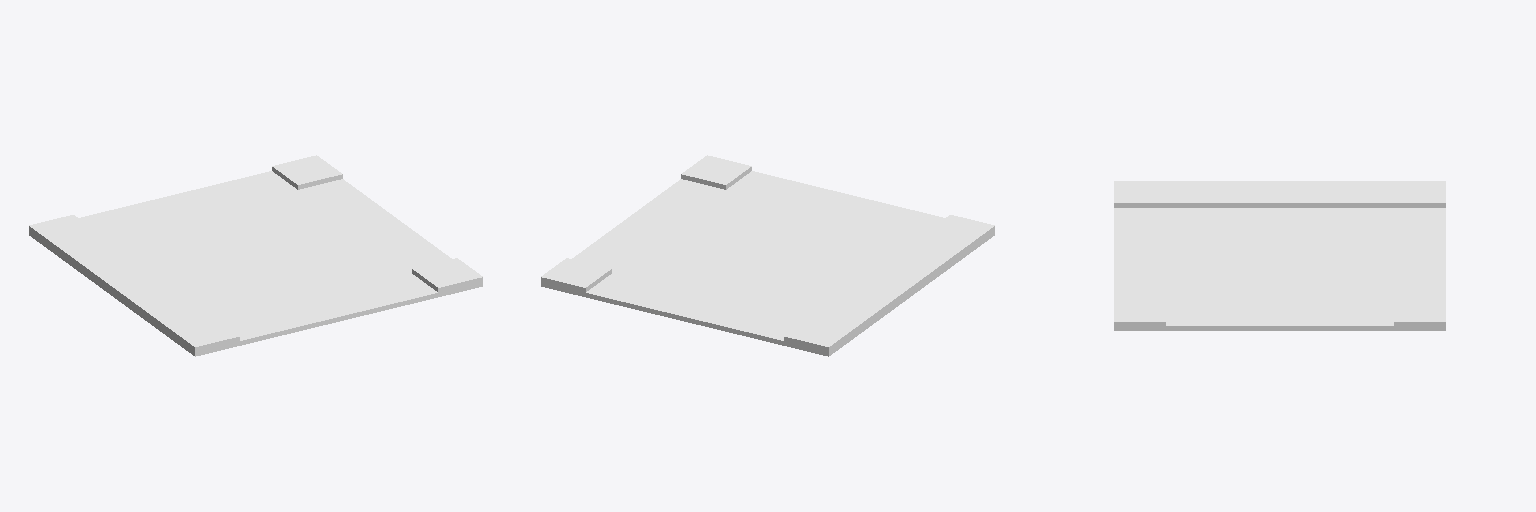
File: RoadT90.obj
3 views of the same model, side by side, from view 1: azimuth 30°, elevation 25°; view 2: azimuth 150°, elevation 25°; view 3: azimuth 270°, elevation 25° (orthographic).
Parts seen in each view (by area): view 1: object 1; view 2: object 1; view 3: object 1.
Boxes of the visible parts, <box> form: object 1: <box>29,155,482,356</box>; object 1: <box>541,155,994,356</box>; object 1: <box>1114,181,1445,330</box>.
Size of the model in its own units: 6.4 by 0.2 by 6.4.